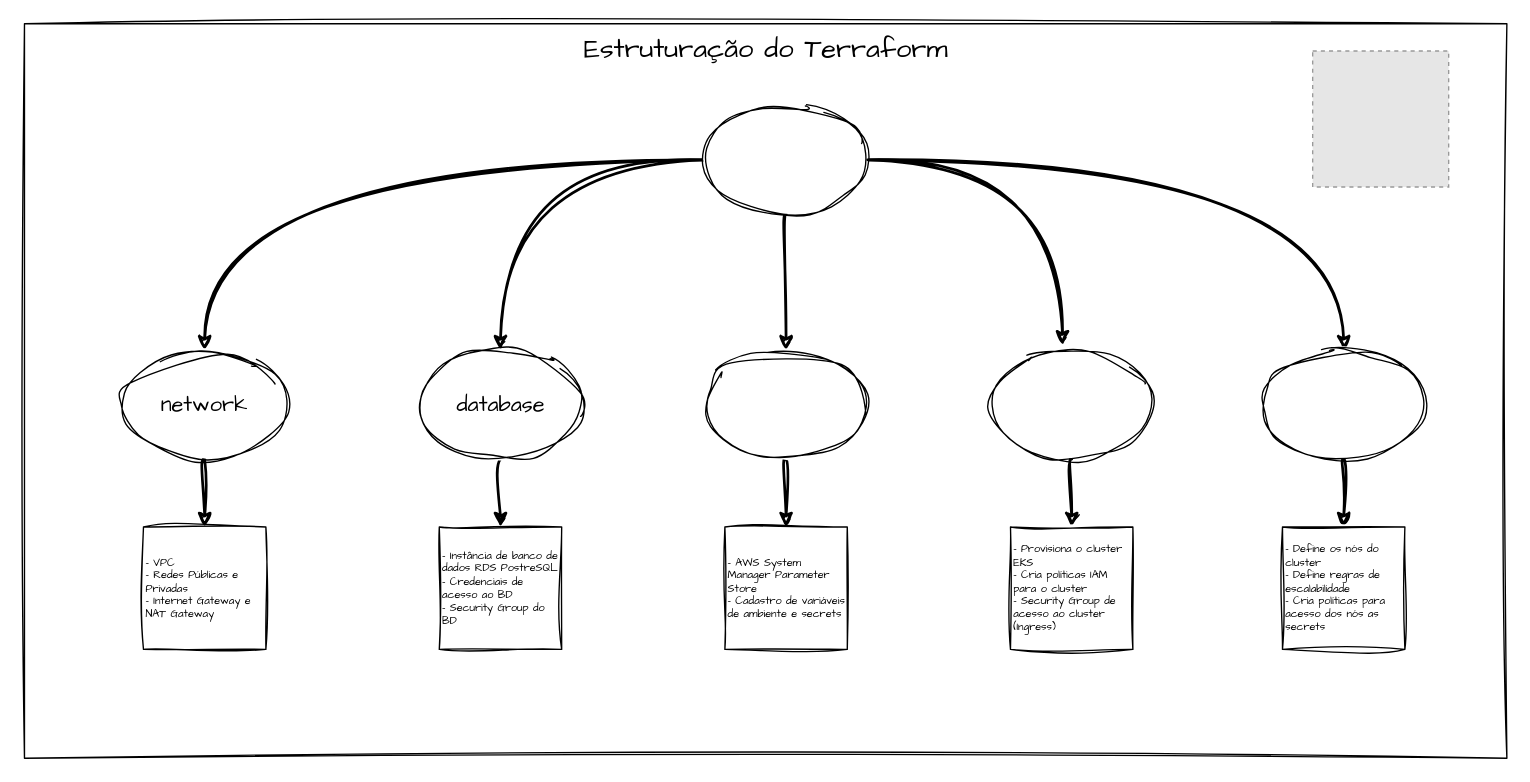
Some shapes in this 1530 by 782 pixel diagram are drawn without their labels. Grey dashed boxes stand in for pictures. The centre of each missing label's shape, as x and y in pixels:
"env" belongs at point 785,404.
"master" belongs at point 1071,404.
"modules" belongs at point 785,159.
"node" belongs at point 1343,404.
